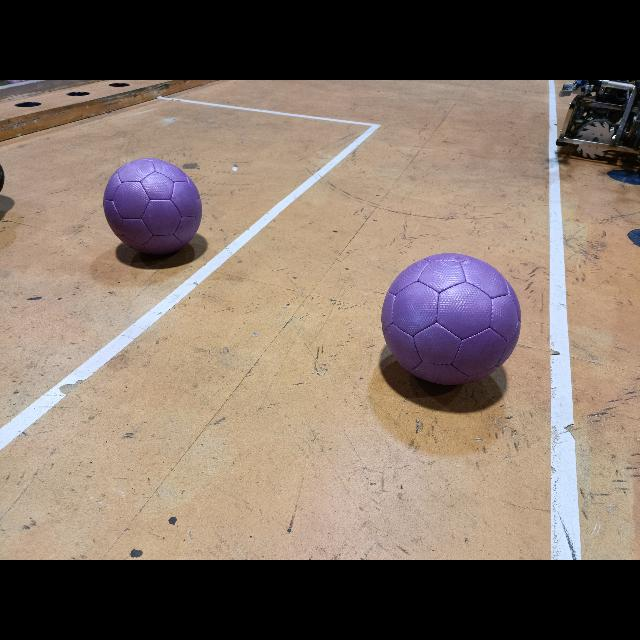P: (381, 253, 521, 385), (104, 158, 202, 255)
